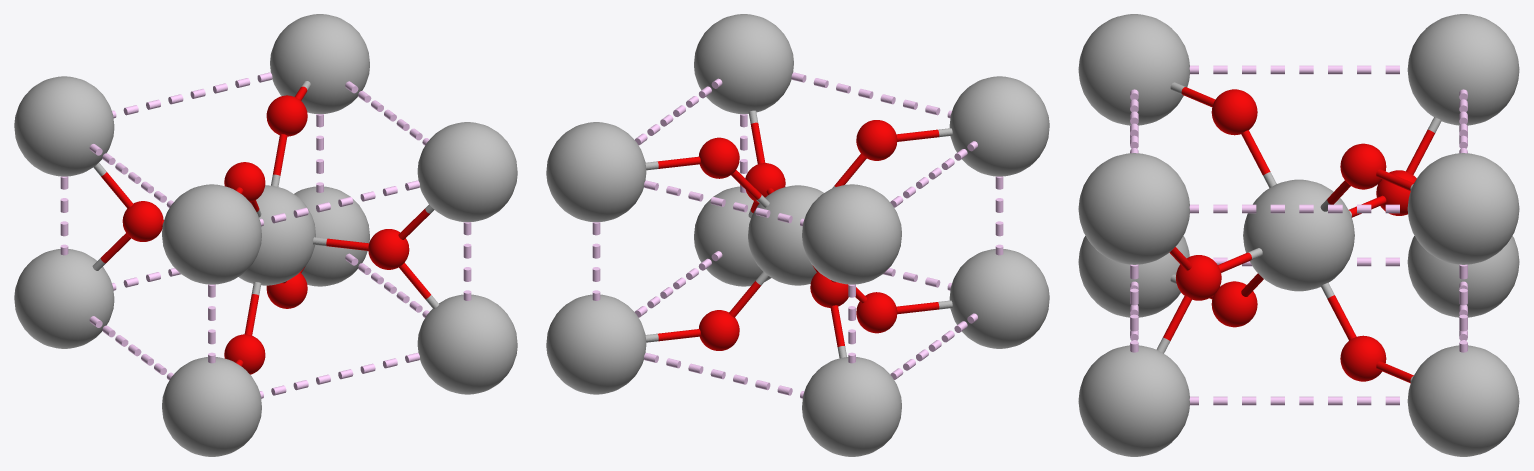
File: rutile.fbx
The picture shows the model from 3 angles, left to right: view 1: azimuth 30°, elevation 25°; view 2: azimuth 150°, elevation 25°; view 3: azimuth 270°, elevation 25°; orthographic projection. The views are drawn at different scales.
Parts seen in each view (by area): view 1: Nb09, Nb35, Nb02, Nb30, Nb24, Nb19, Nb47, Nb10, Nb41, O51, O27, O38 (+10 smaller); view 2: Nb24, Nb47, Nb41, Nb19, Nb09, Nb35, Nb02, Nb10, Nb30, O17, O51, O45 (+10 smaller); view 3: Nb47, Nb35, Nb41, Nb30, Nb24, Nb09, Nb10, Nb19, Nb02, O17, O45, O51 (+14 smaller).
Part boxes in pixels (x1,y1,x2,y2): Nb09: [162, 184, 261, 284]; Nb35: [417, 122, 517, 222]; Nb02: [162, 357, 261, 456]; Nb30: [417, 294, 517, 394]; Nb24: [14, 76, 114, 176]; Nb19: [14, 249, 114, 348]; Nb47: [270, 14, 369, 114]; Nb10: [239, 185, 315, 285]; Nb41: [294, 186, 369, 286]; O51: [266, 95, 307, 136]; O27: [122, 201, 163, 241]; O38: [368, 229, 409, 269]; Nb24: [802, 184, 901, 284]; Nb47: [546, 122, 646, 222]; Nb41: [546, 294, 646, 394]; Nb19: [802, 357, 901, 456]; Nb09: [949, 76, 1049, 176]; Nb35: [694, 14, 793, 114]; Nb02: [949, 249, 1049, 348]; Nb10: [748, 185, 823, 285]; Nb30: [694, 186, 771, 286]; O17: [856, 120, 897, 160]; O51: [699, 137, 739, 178]; O45: [699, 310, 739, 350]; Nb47: [1407, 153, 1519, 264]; Nb35: [1078, 153, 1189, 264]; Nb41: [1407, 345, 1519, 456]; Nb30: [1078, 345, 1189, 456]; Nb24: [1407, 14, 1519, 125]; Nb09: [1078, 14, 1189, 125]; Nb10: [1243, 179, 1354, 291]; Nb19: [1407, 236, 1519, 317]; Nb02: [1078, 236, 1189, 317]; O17: [1211, 89, 1257, 135]; O45: [1340, 335, 1386, 381]; O51: [1340, 143, 1386, 189].
Size of the model in its own units: 615 by 451 by 615.
